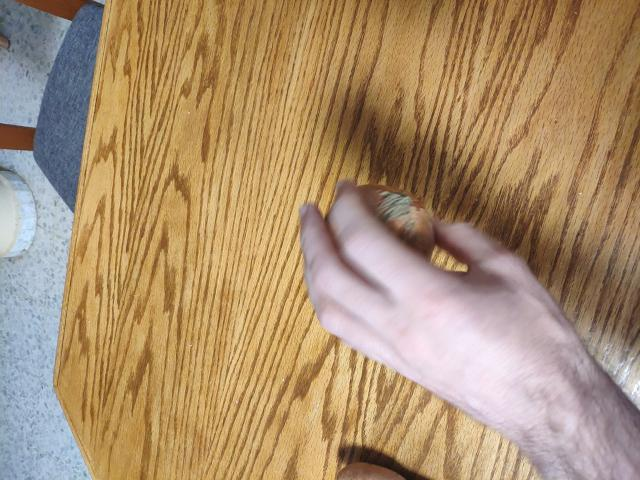onion: (319, 187, 439, 274)
